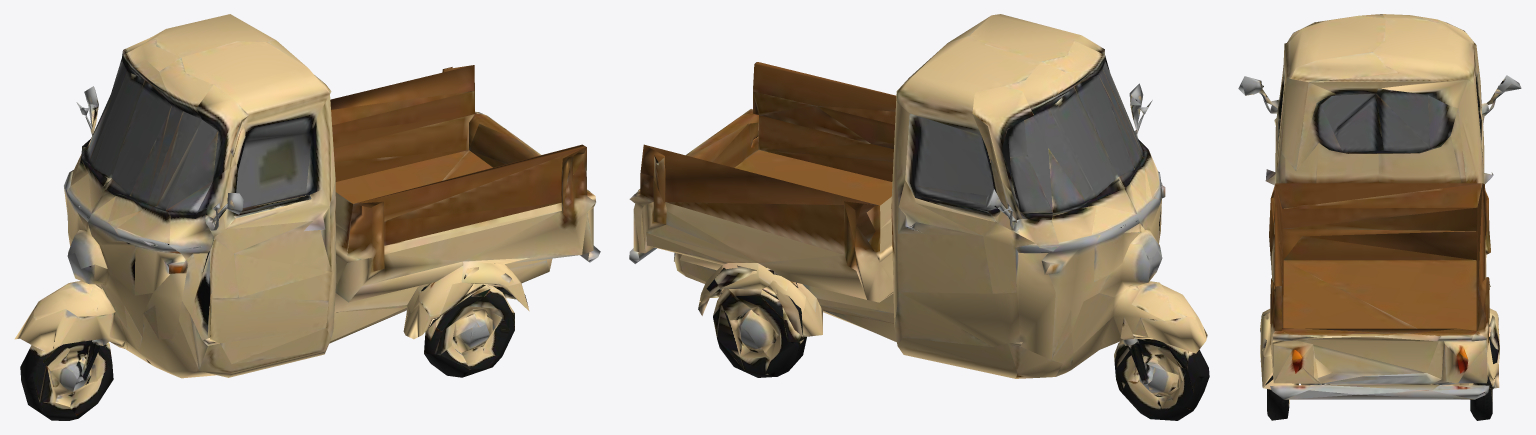
File: getkong-auto5.glb
The picture shows the model from 3 angles, left to right: view 1: azimuth 30°, elevation 25°; view 2: azimuth 150°, elevation 25°; view 3: azimuth 270°, elevation 25°; orthographic projection. The views are drawn at different scales.
Visible parts, largest first — view 1: output_unwrapped; view 2: output_unwrapped; view 3: output_unwrapped.
Boxes of the visible parts, box(x1,y1,x2,y2) form: output_unwrapped: box(14, 14, 600, 420); output_unwrapped: box(629, 14, 1209, 420); output_unwrapped: box(1238, 14, 1521, 420).
Bounding box in the file's own units: 1.9 × 1.15 × 0.9802.
1 material, 1 textured.
